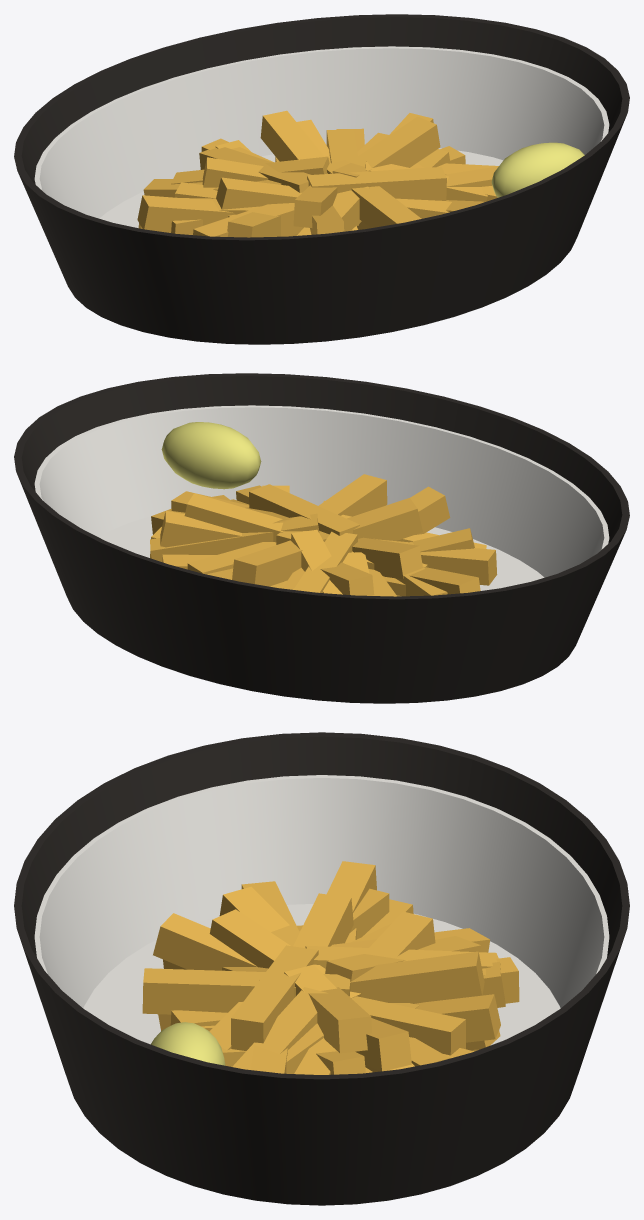
Rendered from porcao-batata.glb.
The picture shows the model from 3 angles, top to bottom: view 1: azimuth 30°, elevation 25°; view 2: azimuth 150°, elevation 25°; view 3: azimuth 270°, elevation 25°; orthographic projection. The views are drawn at different scales.
Visible parts, largest first — view 1: porcao-batata; view 2: porcao-batata; view 3: porcao-batata.
Boxes of the visible parts, bbox=[...] form: porcao-batata: bbox=[14, 14, 629, 344]; porcao-batata: bbox=[14, 373, 629, 703]; porcao-batata: bbox=[14, 732, 629, 1205].
Bounding box in the file's own units: 0.24 × 0.05 × 0.18.
